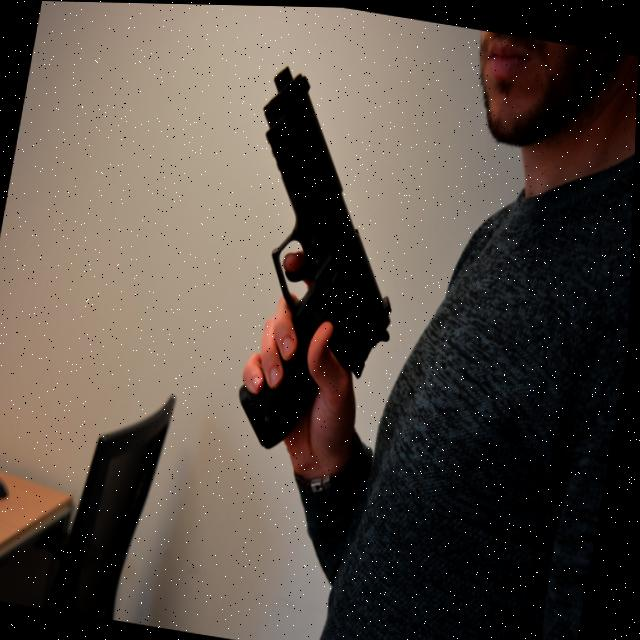pistol: (218, 61, 435, 383)
